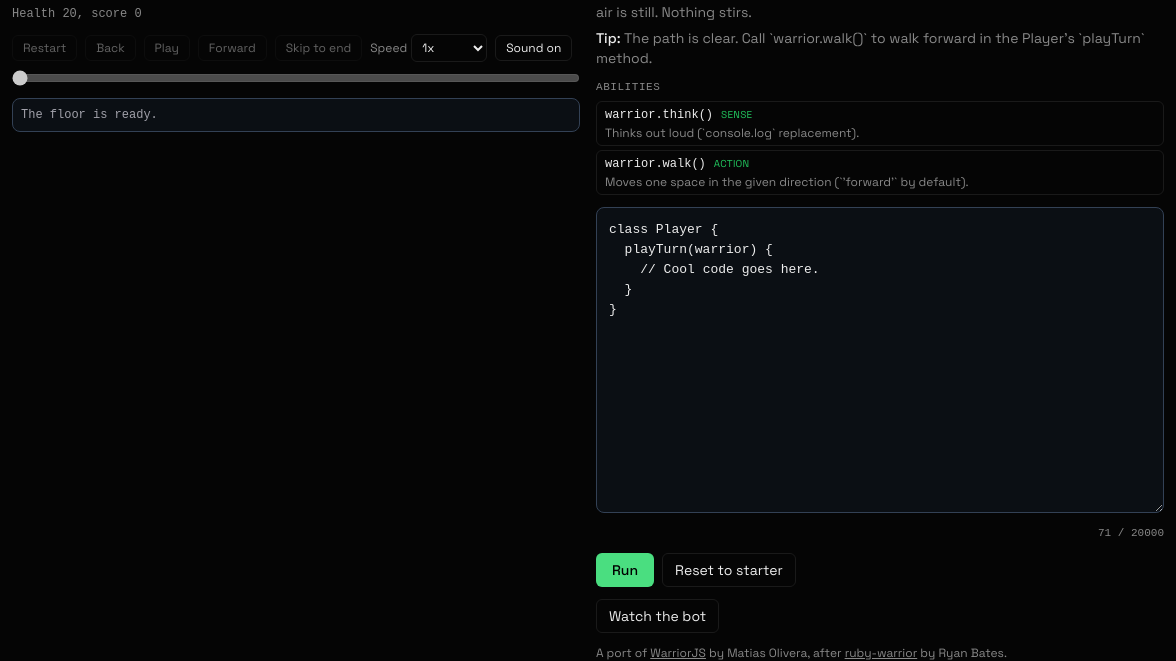
Scenario: Stage, sharing a run › offers no share for a floor that was not passed
The width and height of the screenshot is (1176, 661).
(page scrolled)
What coordinates should you click on to do the following:
click the button "Run"
I would click on:
 (625, 570)
Its box is x1=596 y1=553 x2=654 y2=587.
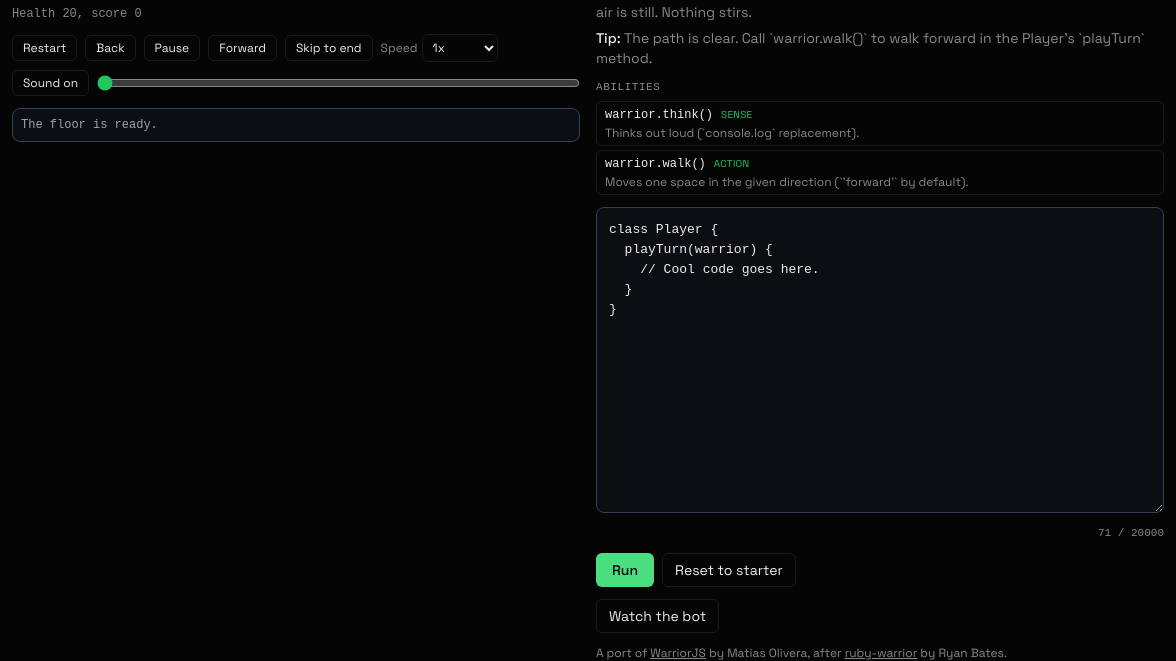
Now the button "Skip to end" is enabled
What coordinates should you click on to do the following:
click the button "Skip to end"
I would click on:
 (329, 48)
Its box is x1=285 y1=35 x2=373 y2=61.
(page scrolled)
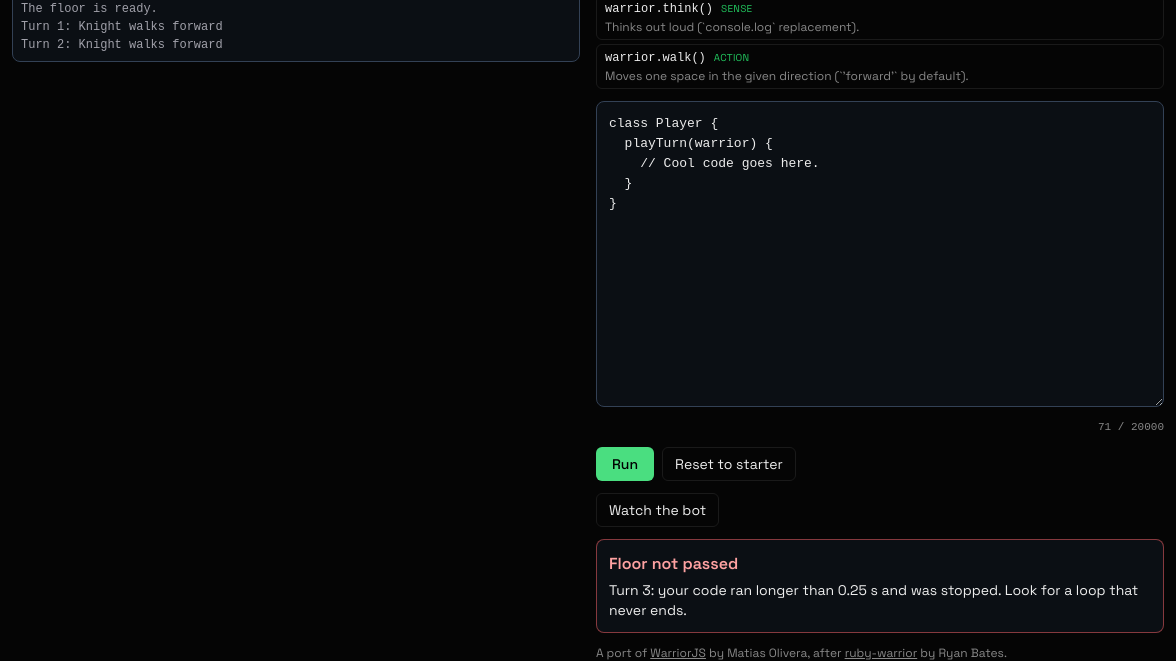
Now the text "ran longer than" is shown, box x1=609 y1=581 x2=1138 y2=619
